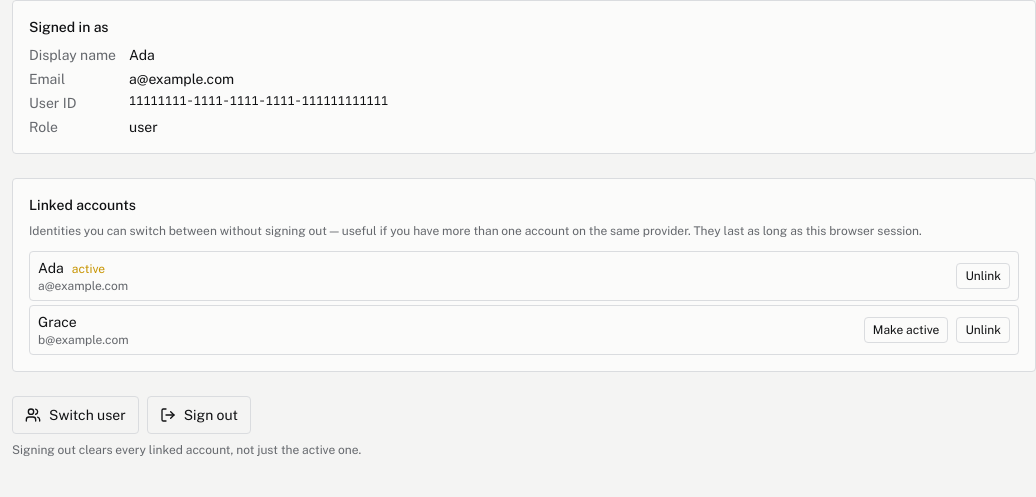
linked accounts › surfaces a failed switch instead of reloading
Click the button "Make active" at (906, 330), box [864,317,948,343]
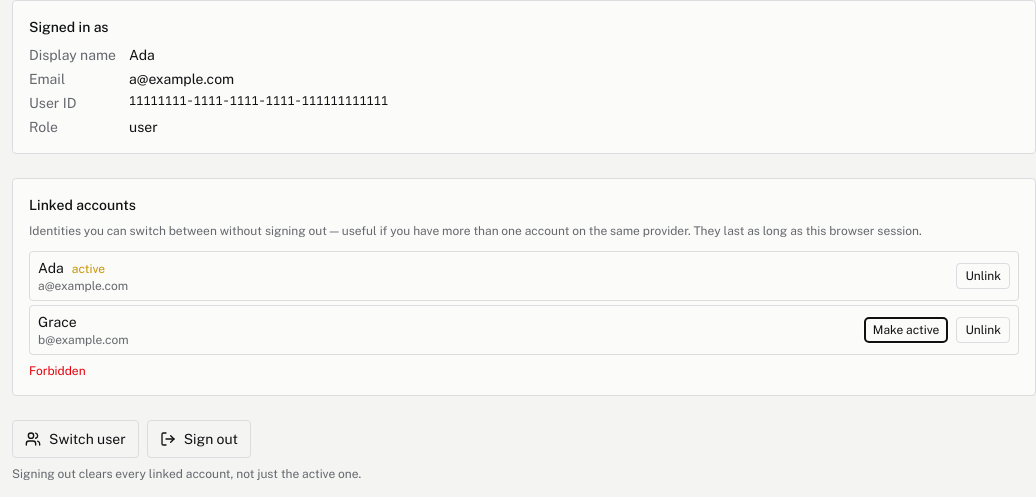
expect the message reads "Forbidden": met, box [29,364,86,378]
